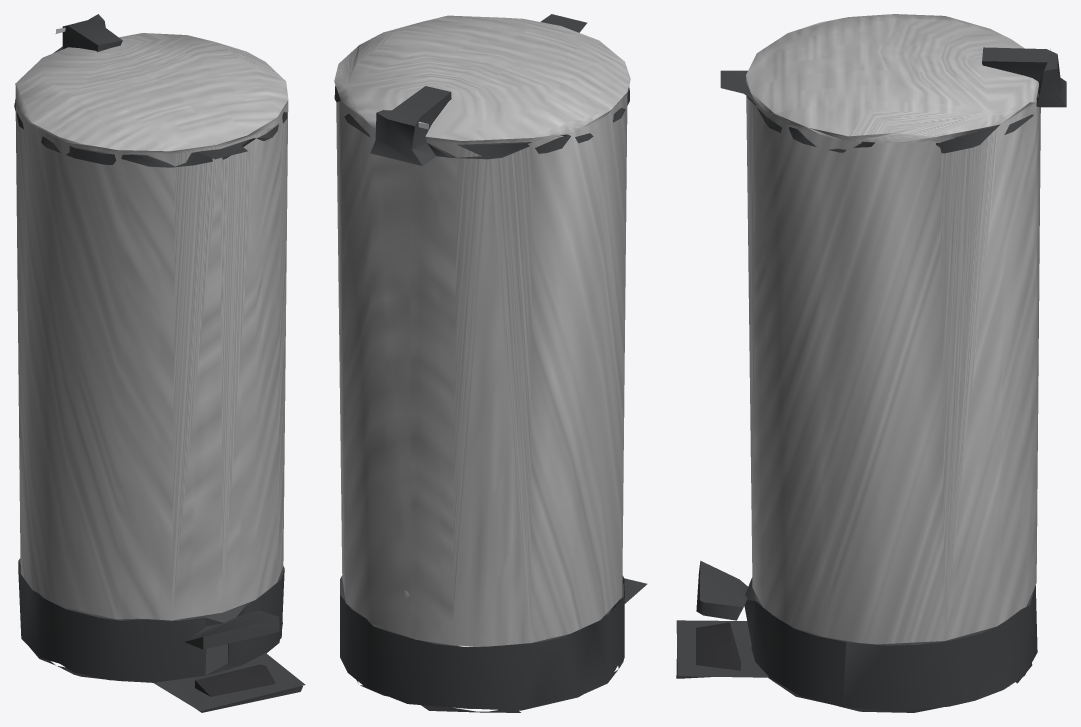
File: simready-bin-pedal.lite.285f9cce.glb
3 views of the same model, side by side, from view 1: azimuth 30°, elevation 25°; view 2: azimuth 150°, elevation 25°; view 3: azimuth 270°, elevation 25° (orthographic). The views are drawn at different scales.
Parts seen in each view (by area): view 1: model; view 2: model; view 3: model.
Part boxes in pixels (x1,y1,x2,y2): model: [14, 14, 305, 712]; model: [334, 14, 647, 712]; model: [676, 14, 1066, 712].
Bounding box in the file's own units: 0.292 × 0.6529 × 0.385.
Materials: 5 (2 with a texture image).
